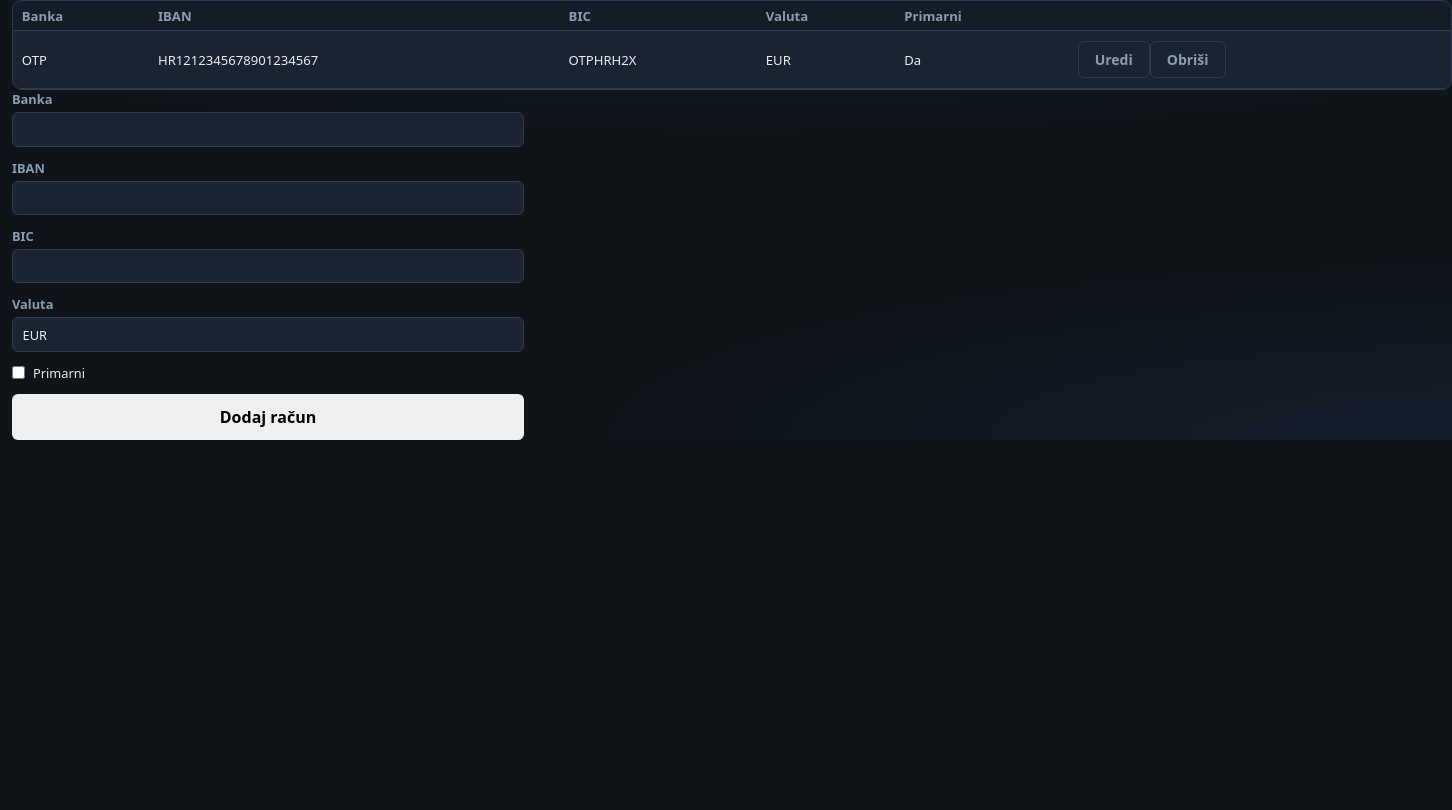
Test: PartnerBankAccountsPanel › shows partner_iban_conflict on the IBAN field
Click the button "Uredi": (1114, 60) [1078, 41, 1150, 78]
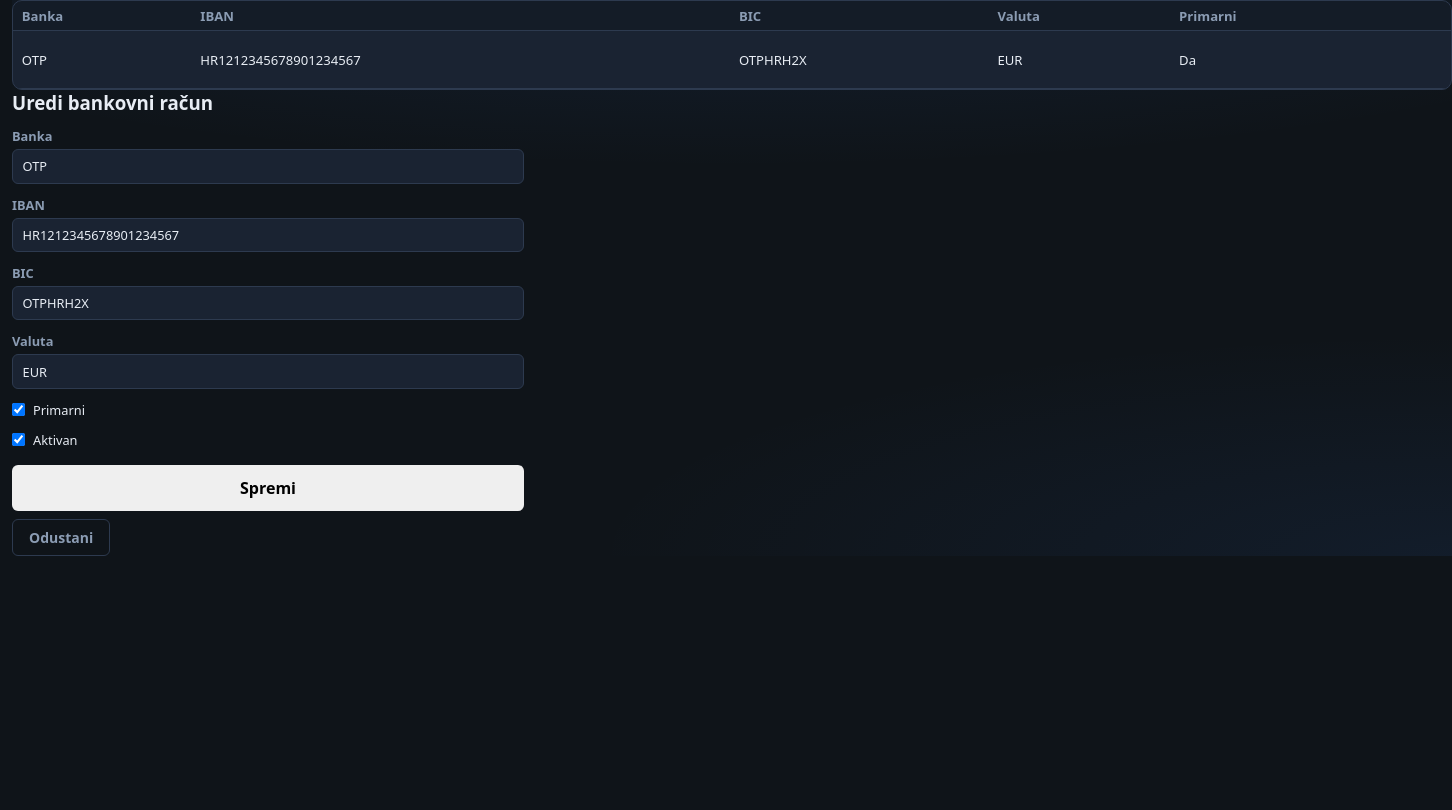
Replace the text in the field labelled "IBAN" with "HR9876543210987654321": (268, 235) [12, 218, 524, 252]
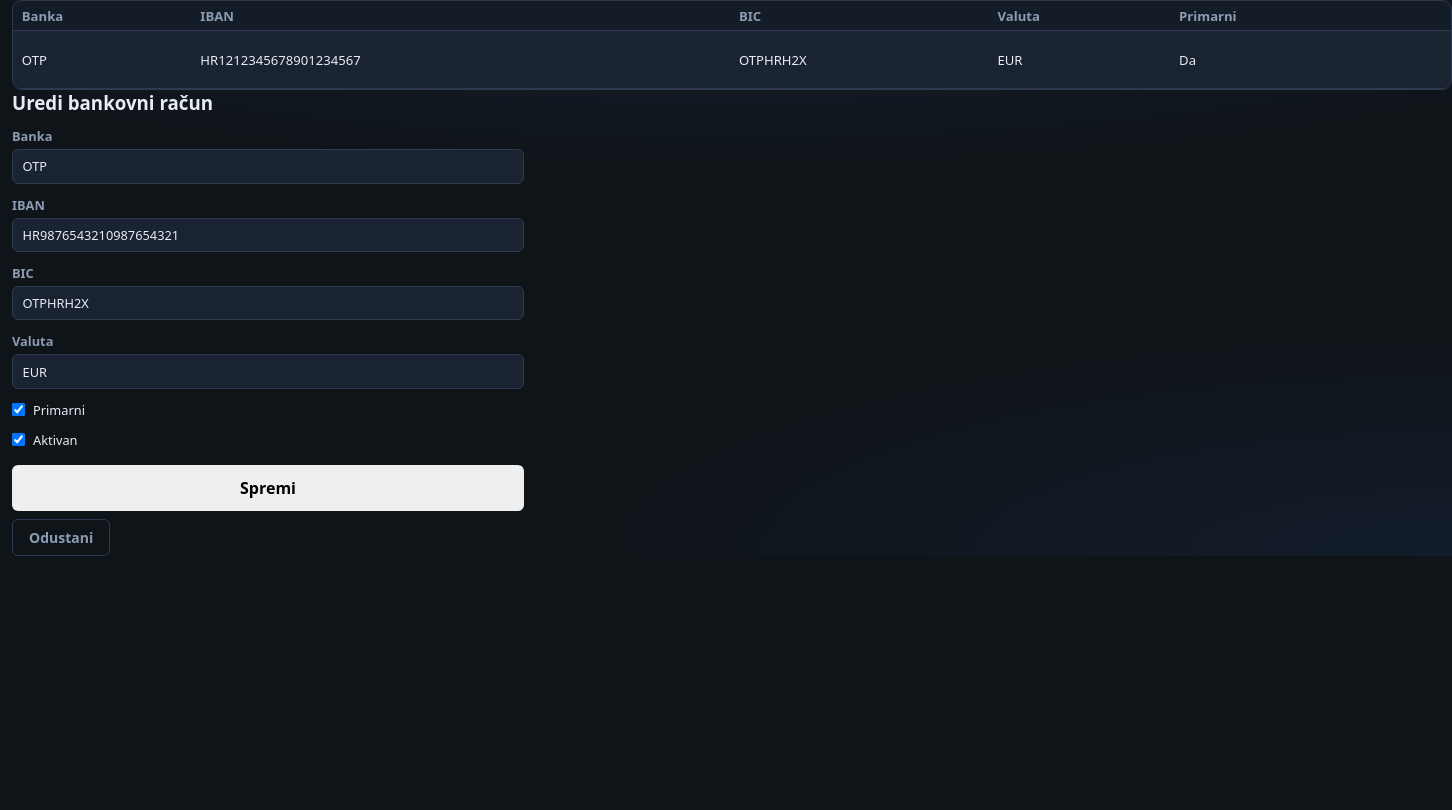
Click the button "Spremi": (268, 488) [12, 465, 524, 511]
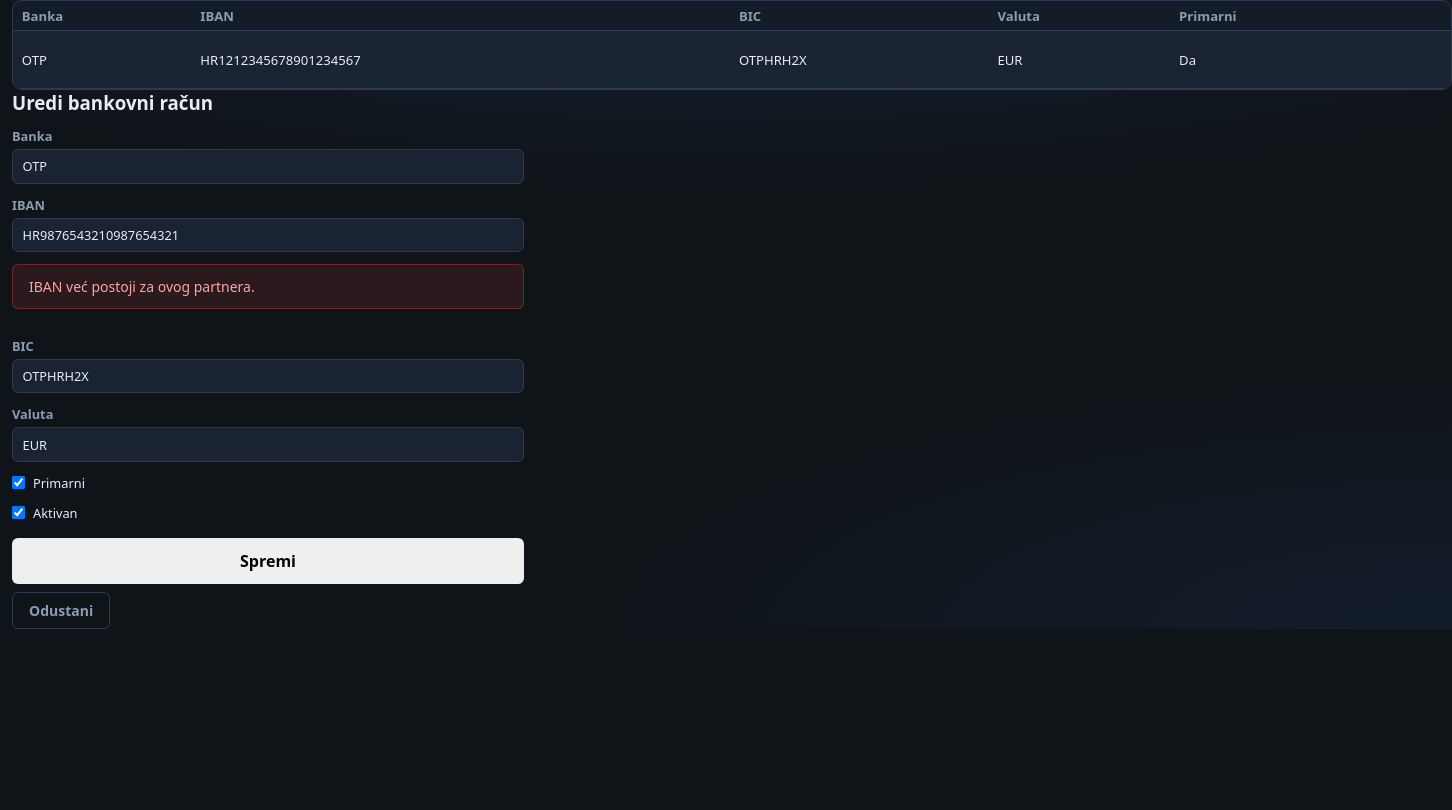
Expected: the text "IBAN već postoji za ovog partnera." is shown, [12, 264, 524, 309]
